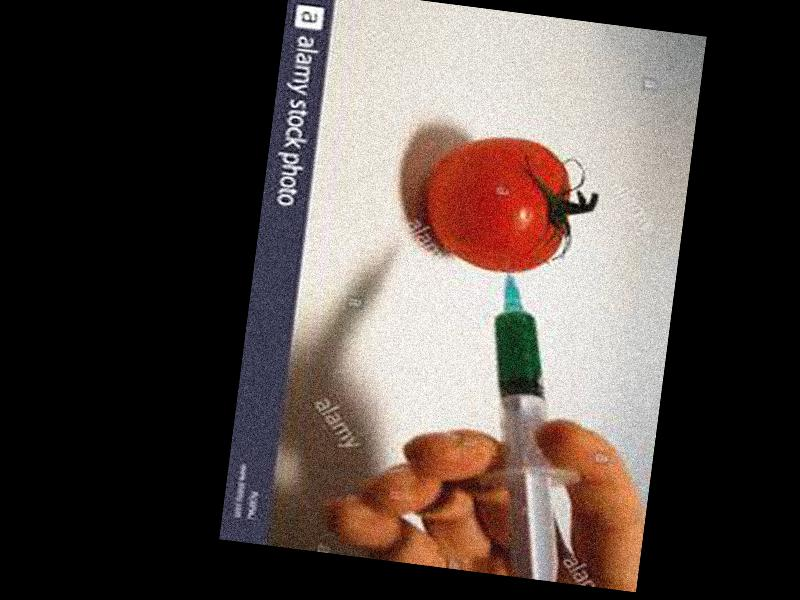Tomato: (418, 130, 575, 279)
